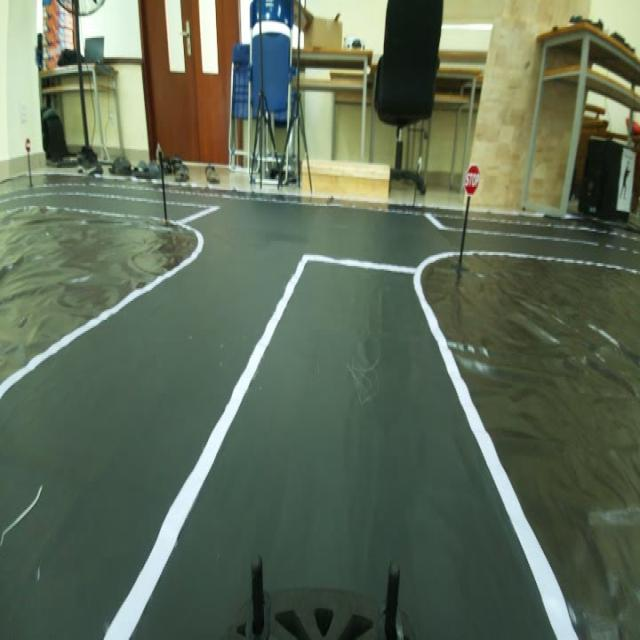stop: (462, 160, 483, 198)
